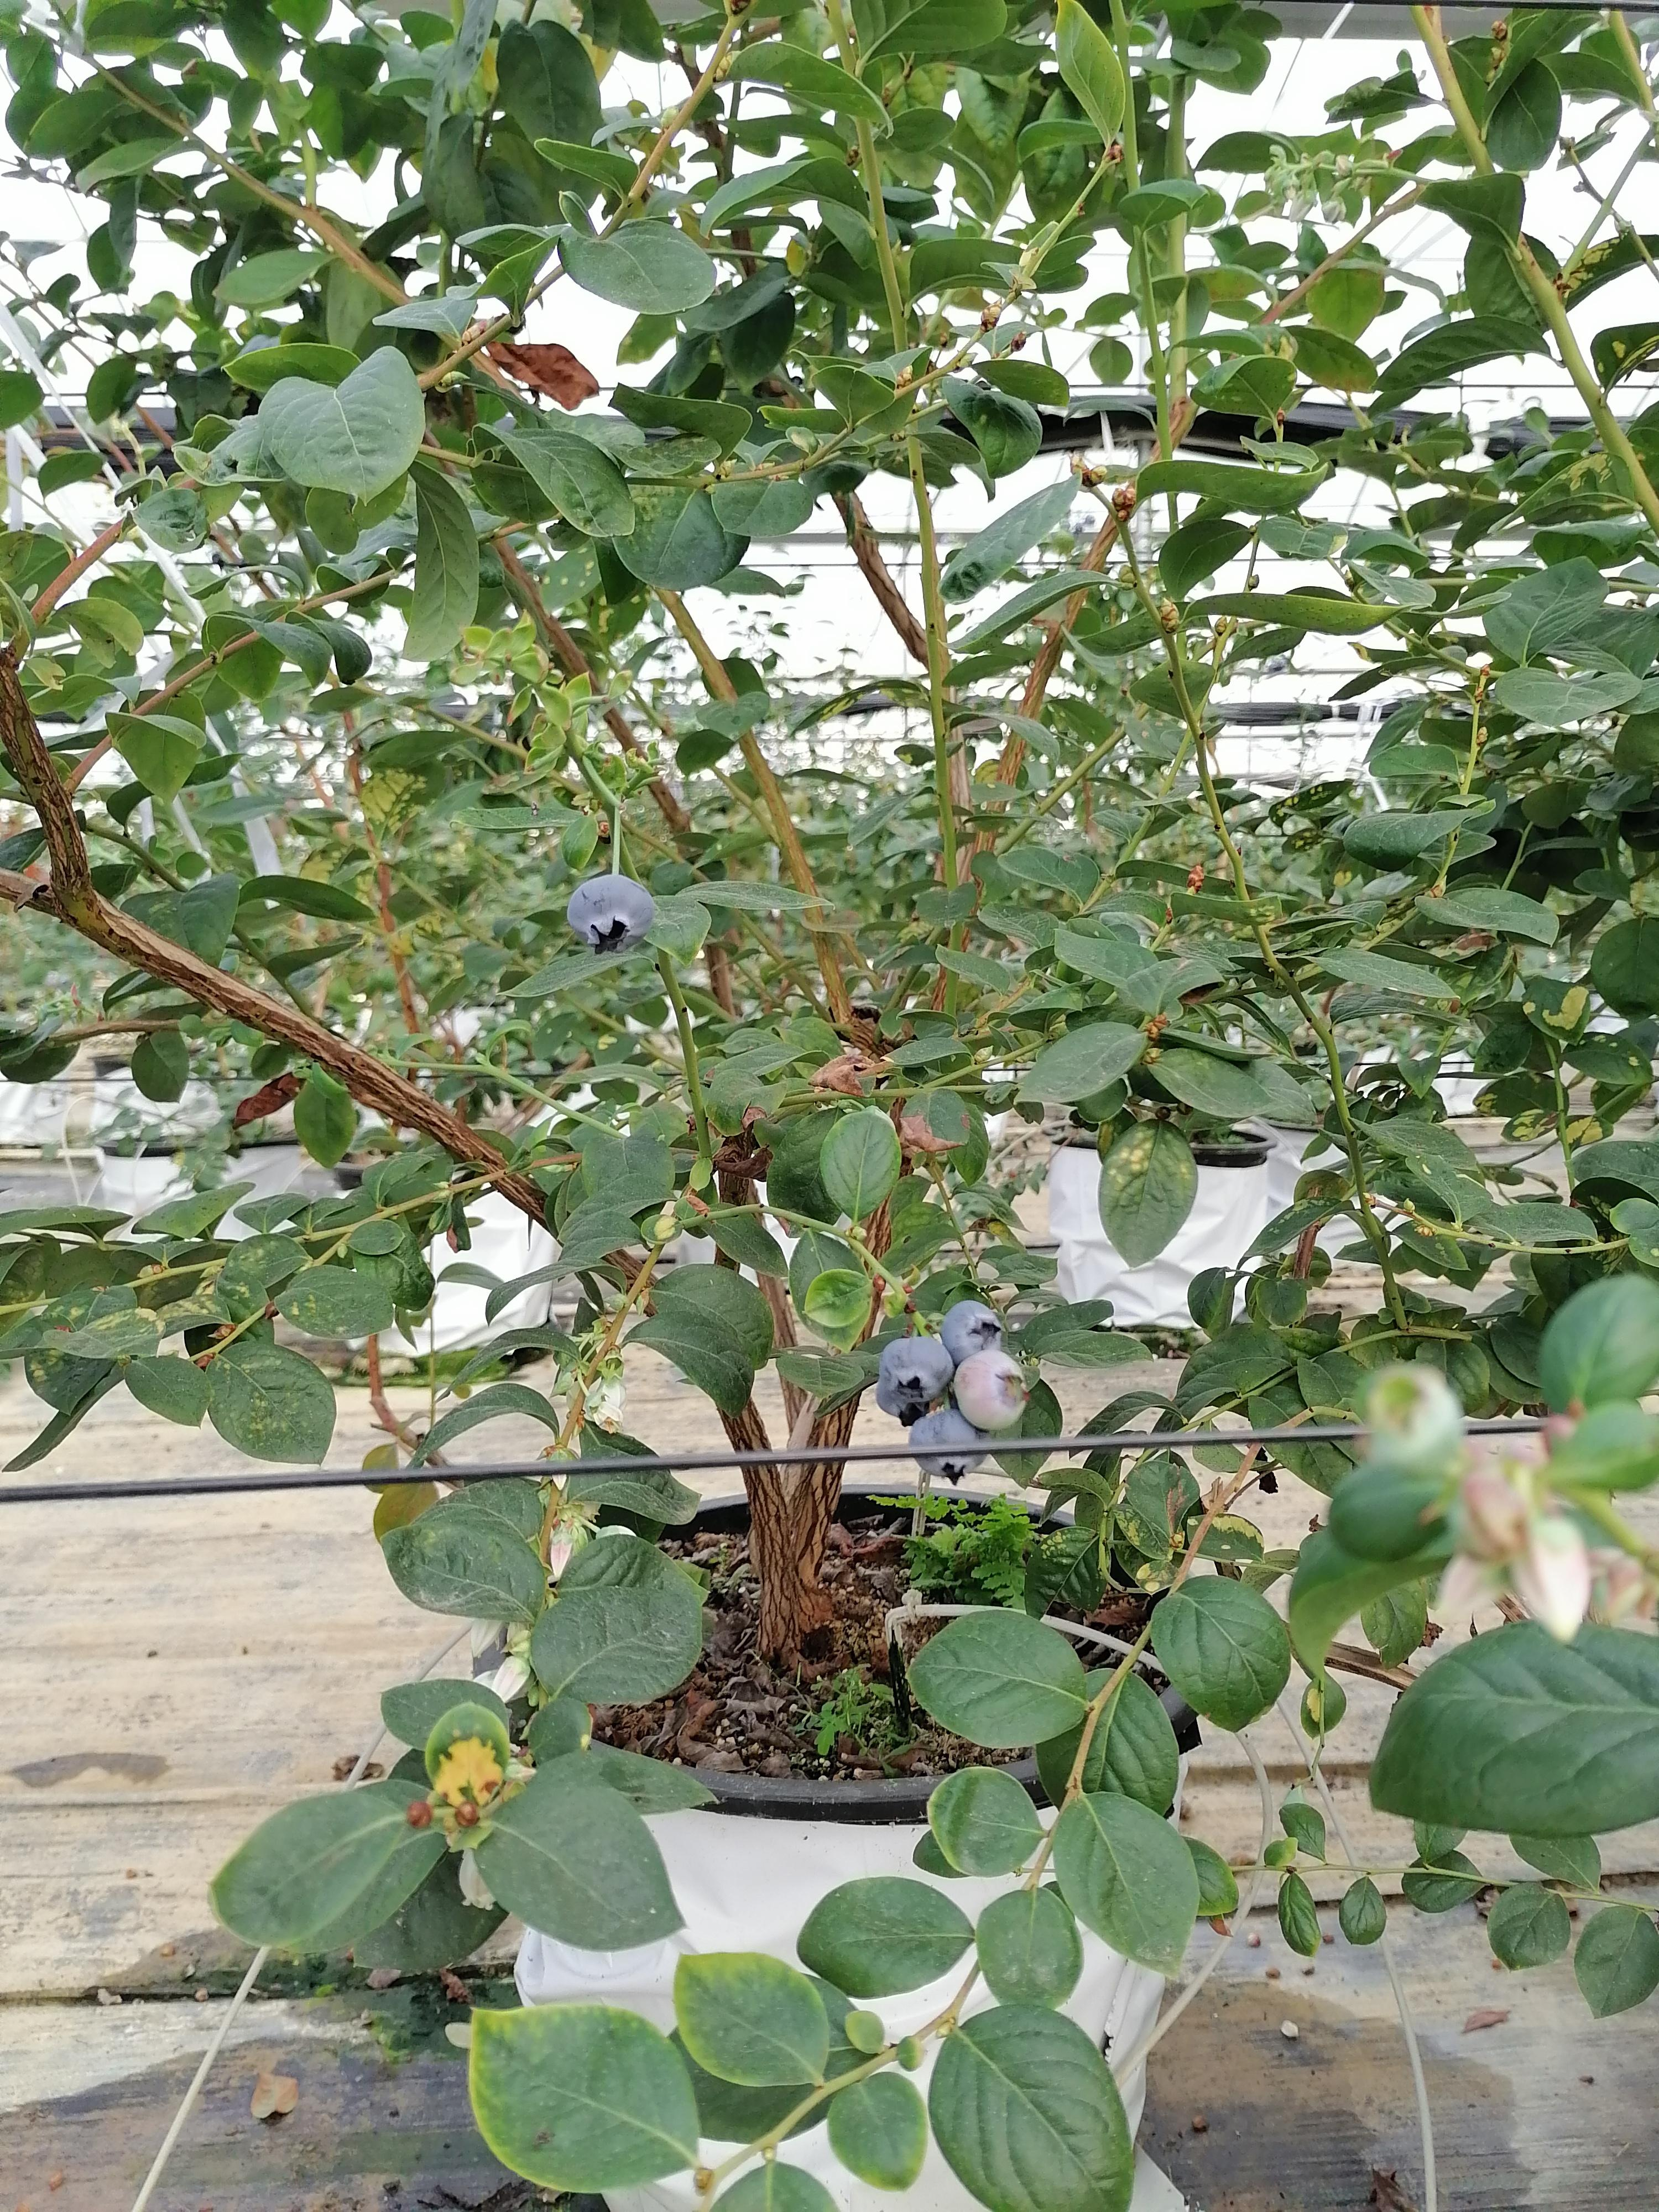ripe-blueberries: (566, 873, 655, 954), (908, 1411, 992, 1484), (878, 1336, 953, 1404), (941, 1299, 1004, 1364), (875, 1386, 931, 1428)
